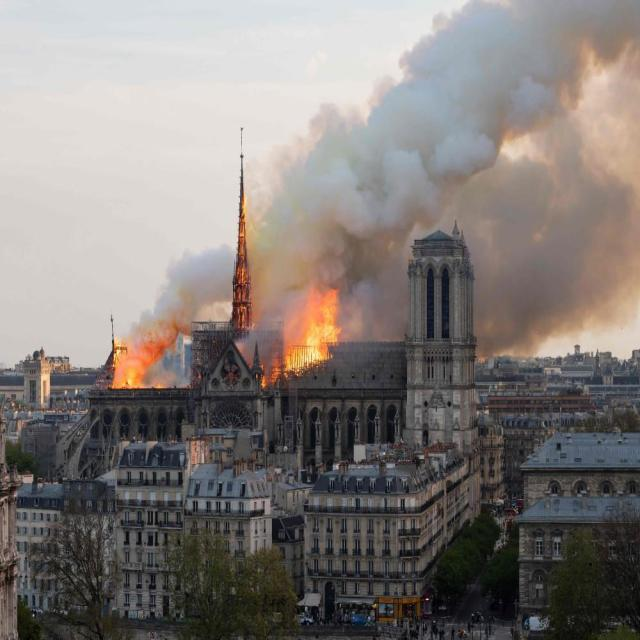Fire: (254, 288, 344, 395), (102, 338, 168, 395)
Smoke: (130, 0, 640, 342)
